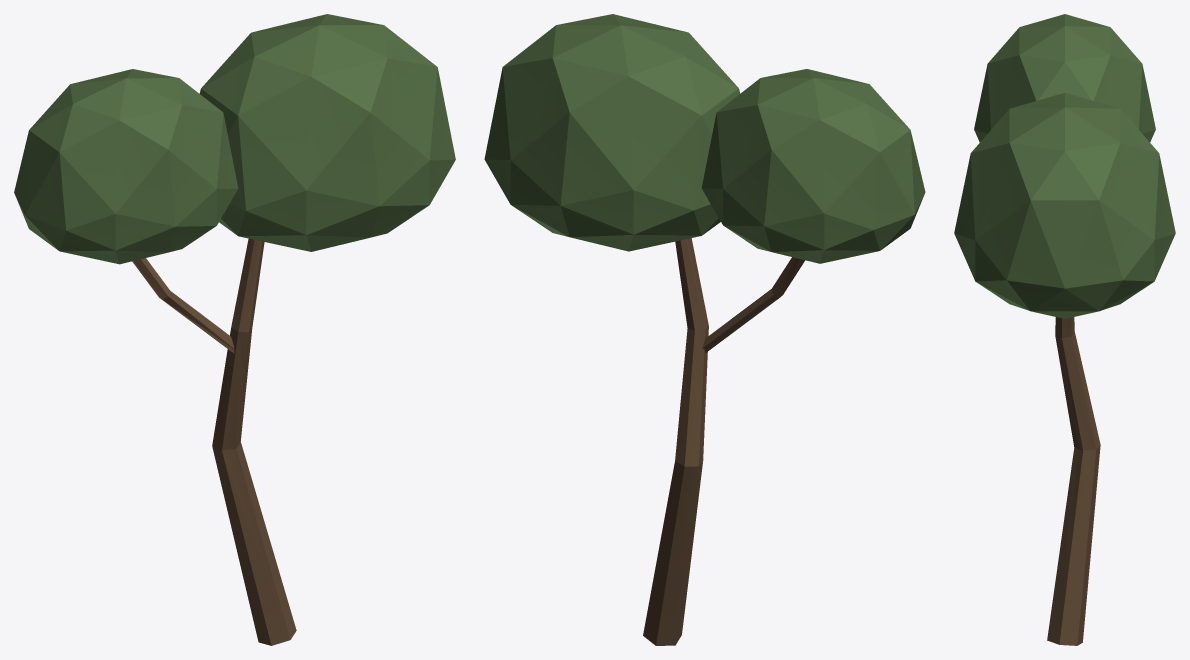
Rendered from tree_green_5.glb.
3 renders of one model, left to right at view 1: azimuth 30°, elevation 25°; view 2: azimuth 150°, elevation 25°; view 3: azimuth 270°, elevation 25°, orthographic. The views are drawn at different scales.
Parts seen in each view (by area): view 1: Tree Green 6; view 2: Tree Green 6; view 3: Tree Green 6.
Part boxes in pixels (<box>): Tree Green 6: <box>14,14,455,645</box>; Tree Green 6: <box>484,14,925,645</box>; Tree Green 6: <box>954,14,1175,645</box>.
Bounding box in the file's own units: 0.1788 × 0.2475 × 0.0893.
